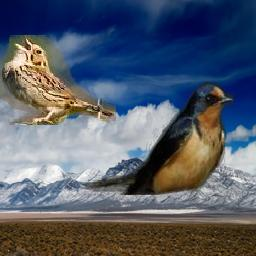Sparrow: (0, 35, 116, 125)
Swallow: (84, 83, 235, 196)
